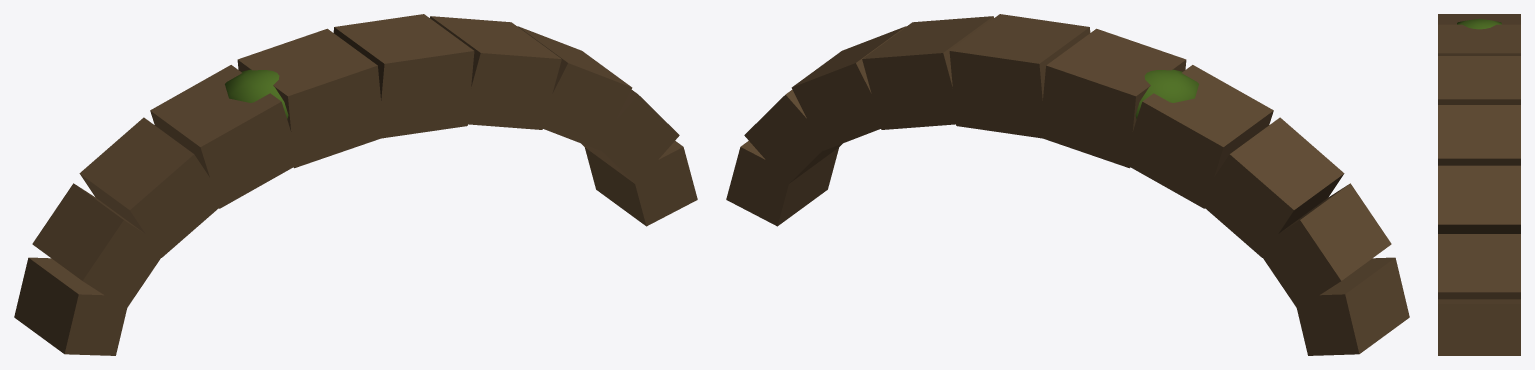
The model's file is jg_giant_root.glb.
3 views of the same model, side by side, from view 1: azimuth 30°, elevation 25°; view 2: azimuth 150°, elevation 25°; view 3: azimuth 270°, elevation 25° (orthographic). The views are drawn at different scales.
Parts seen in each view (by area): view 1: jg_giant_root; view 2: jg_giant_root; view 3: jg_giant_root.
Part boxes in pixels (x1=…): jg_giant_root: x1=14, y1=14, x2=697, y2=355; jg_giant_root: x1=726, y1=14, x2=1409, y2=355; jg_giant_root: x1=1438, y1=14, x2=1520, y2=355.
Bounding box in the file's own units: 4.36 × 1.49 × 0.6008.
